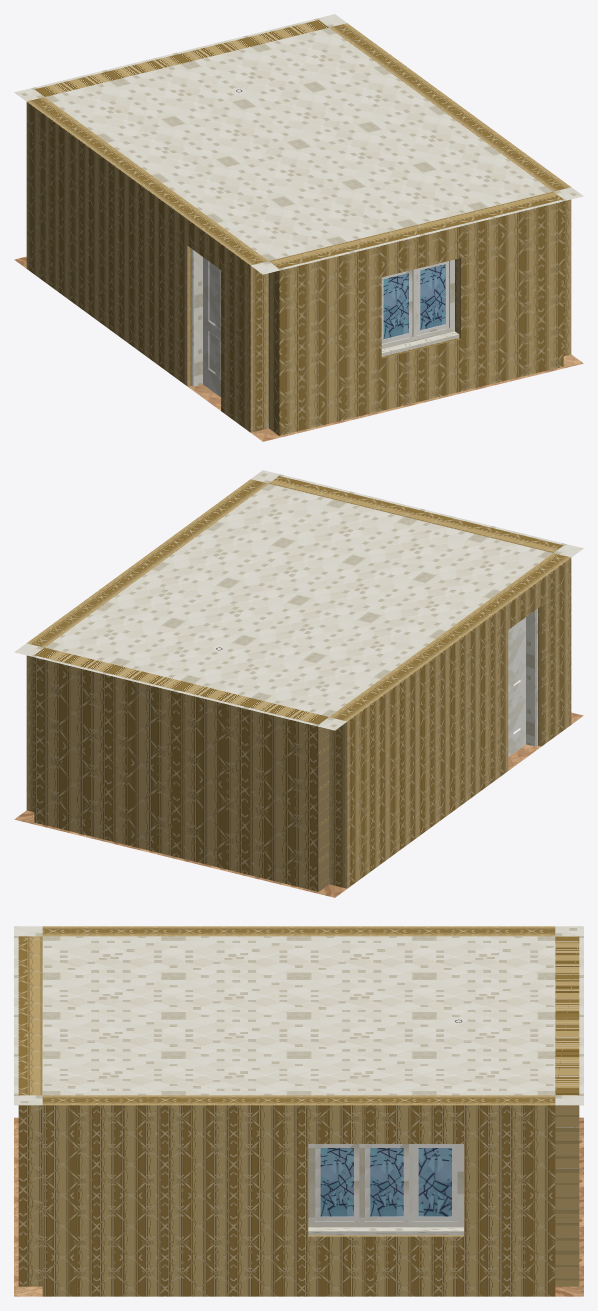
The model's file is house.glb.
The picture shows the model from 3 angles, top to bottom: view 1: azimuth 30°, elevation 25°; view 2: azimuth 150°, elevation 25°; view 3: azimuth 270°, elevation 25°; orthographic projection. The views are drawn at different scales.
Visible parts, largest first — view 1: floor.001, wall 4, wall 1, wall 2, wall 3, door, window.005, window.004, floor, frame, window 2x, windowledge.001; view 2: floor.001, wall 3, wall 1, wall 2, wall 4, door, floor, frame; view 3: wall 2, floor.001, wall 4, wall 3, wall 1, window, window.002, window.001, window 3x, floor, windowledge.
Boxes of the visible parts, box(x1,y1,x2,y2) form: floor.001: box(14, 14, 583, 274); wall 4: box(268, 191, 563, 435); wall 1: box(26, 97, 268, 432); wall 2: box(329, 23, 571, 356); wall 3: box(34, 20, 328, 96); door: box(203, 257, 220, 396); window.005: box(416, 261, 449, 335); window.004: box(381, 270, 412, 343); floor: box(14, 256, 583, 441); frame: box(191, 249, 202, 386); window 2x: box(381, 259, 454, 348); windowledge.001: box(381, 331, 459, 356); floor.001: box(14, 470, 583, 730); wall 3: box(34, 647, 329, 891); wall 1: box(329, 553, 571, 888); wall 2: box(26, 479, 268, 812); wall 4: box(269, 476, 563, 552); door: box(508, 617, 525, 756); floor: box(14, 712, 583, 897); frame: box(526, 608, 537, 746); wall 2: box(42, 1095, 555, 1296); floor.001: box(14, 926, 583, 1105); wall 4: box(18, 936, 42, 1286); wall 3: box(555, 936, 579, 1286); wall 1: box(42, 926, 555, 936); window: box(413, 1144, 457, 1221); window.002: box(315, 1144, 359, 1221); window.001: box(365, 1144, 408, 1221); window 3x: box(308, 1144, 463, 1227); floor: box(14, 1117, 583, 1296); windowledge: box(308, 1227, 463, 1235).
Size of the model in its own units: 4.96 by 2.48 by 6.67.
Materials: 25 (25 with a texture image).
